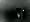person: (17, 9, 22, 20)
